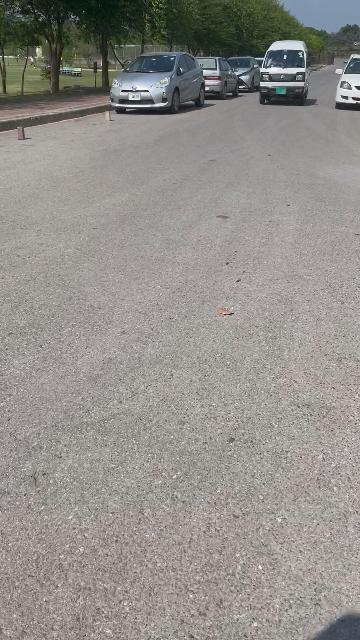plate: (128, 92, 140, 100), (275, 88, 285, 92)
